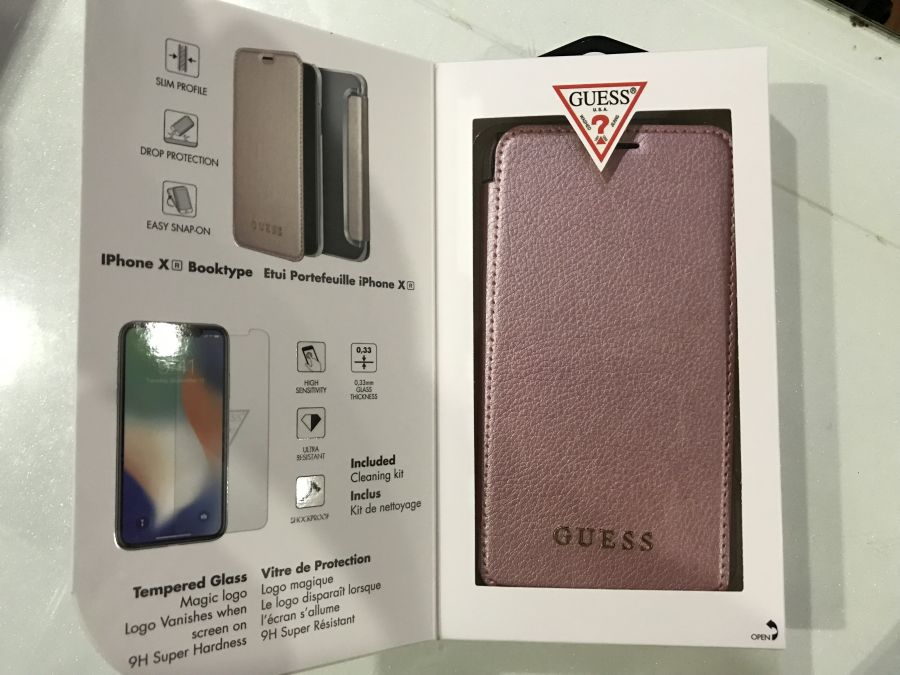Guess: (554, 515, 661, 557), (561, 83, 642, 111)
